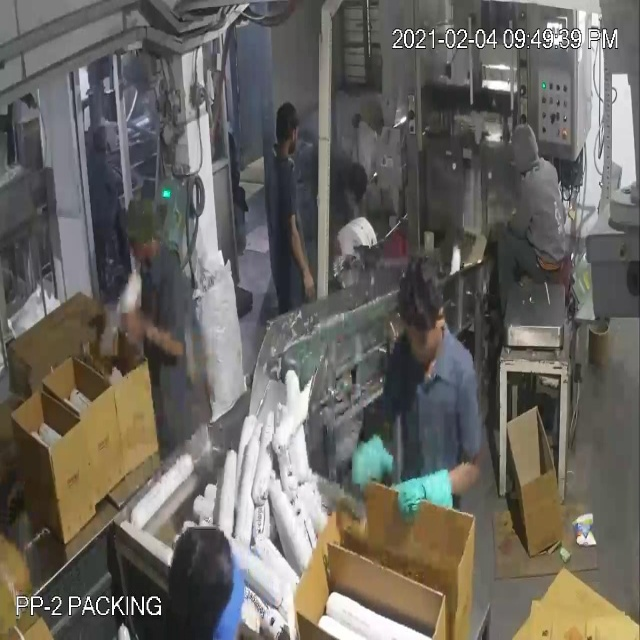Guantes: (390, 460, 467, 516), (345, 436, 394, 498)
Sin_guantes: (113, 292, 192, 388), (278, 207, 317, 303)
